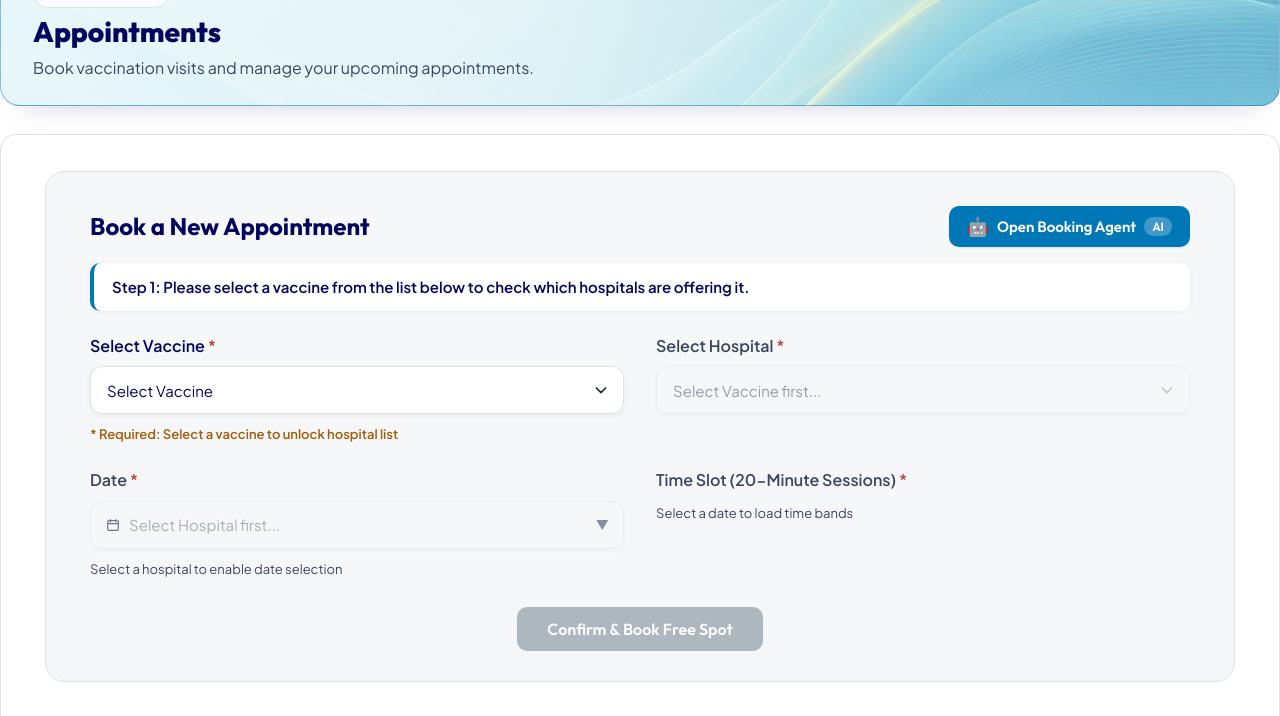
Test: Booking Management - Create Booking Form & Validation › displays loading state on submit button during appointment creation
Select "COVID-19 mRNA Booster (Moderna) (Routine)" in the dropdown with id "select-vaccine" at (357, 390), box [91, 367, 623, 413]
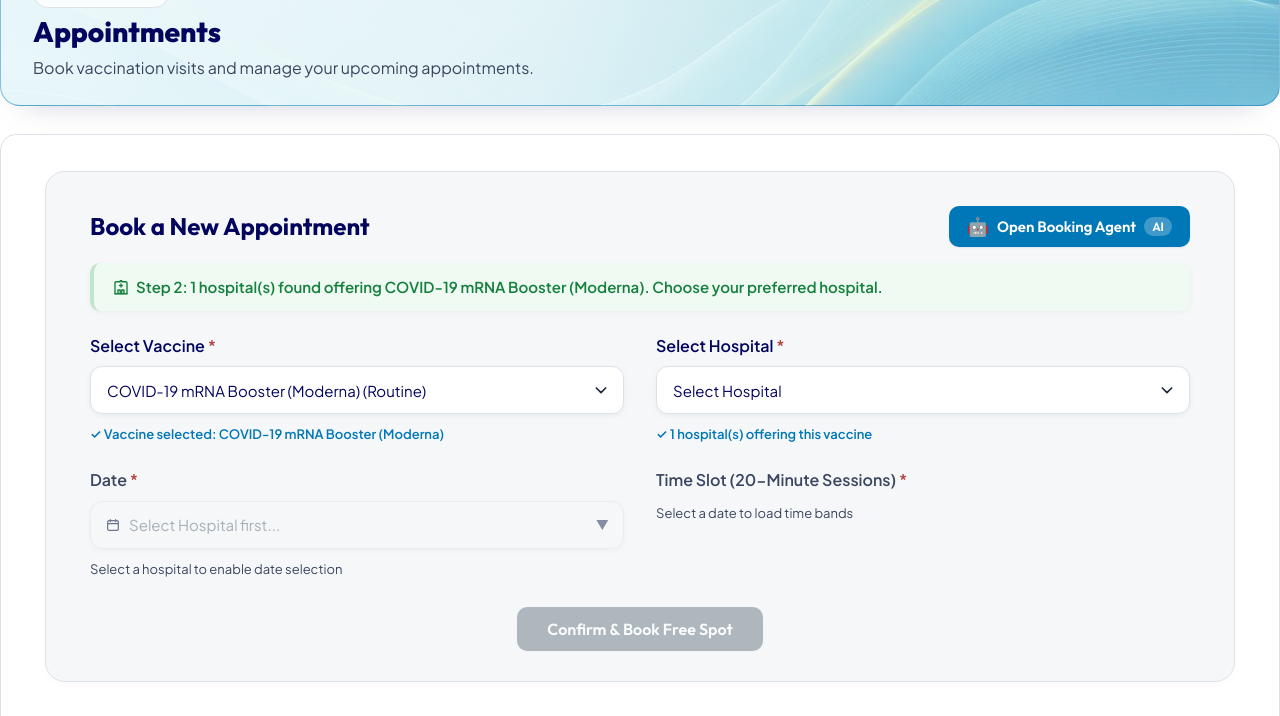
Select "National Hospital Colombo - Colombo 07" in the dropdown with id "select-hospital" at (923, 390), box [657, 367, 1189, 413]
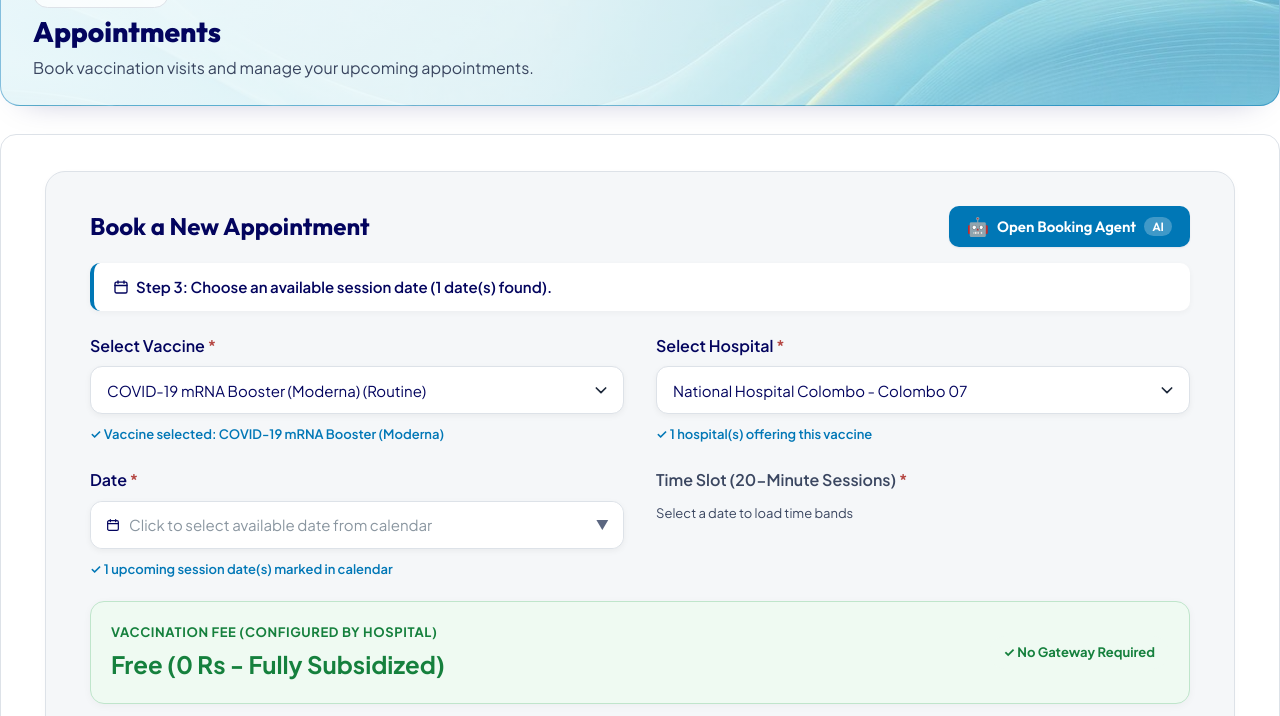
Click the text "Click to select available date from calendar".
click(281, 524)  # box [129, 515, 432, 534]
(page scrolled)
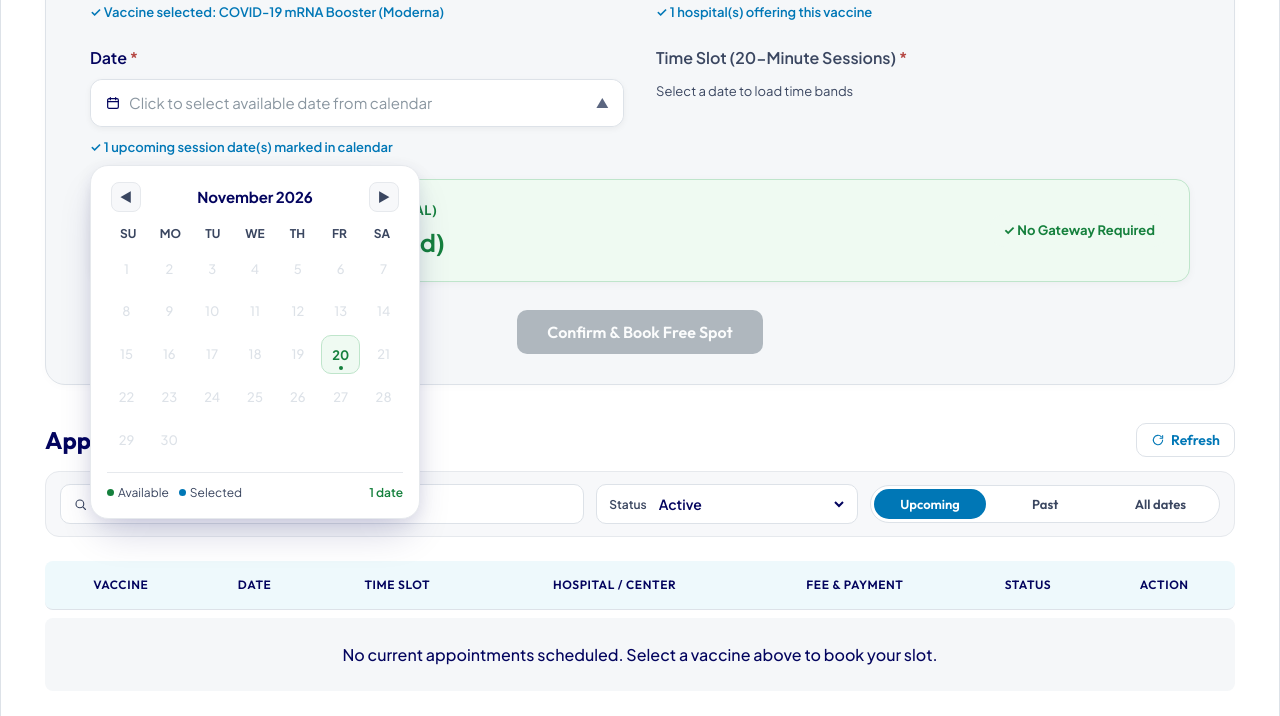
Click the button titled "2026-11-20".
click(341, 355)  # box [321, 335, 360, 374]
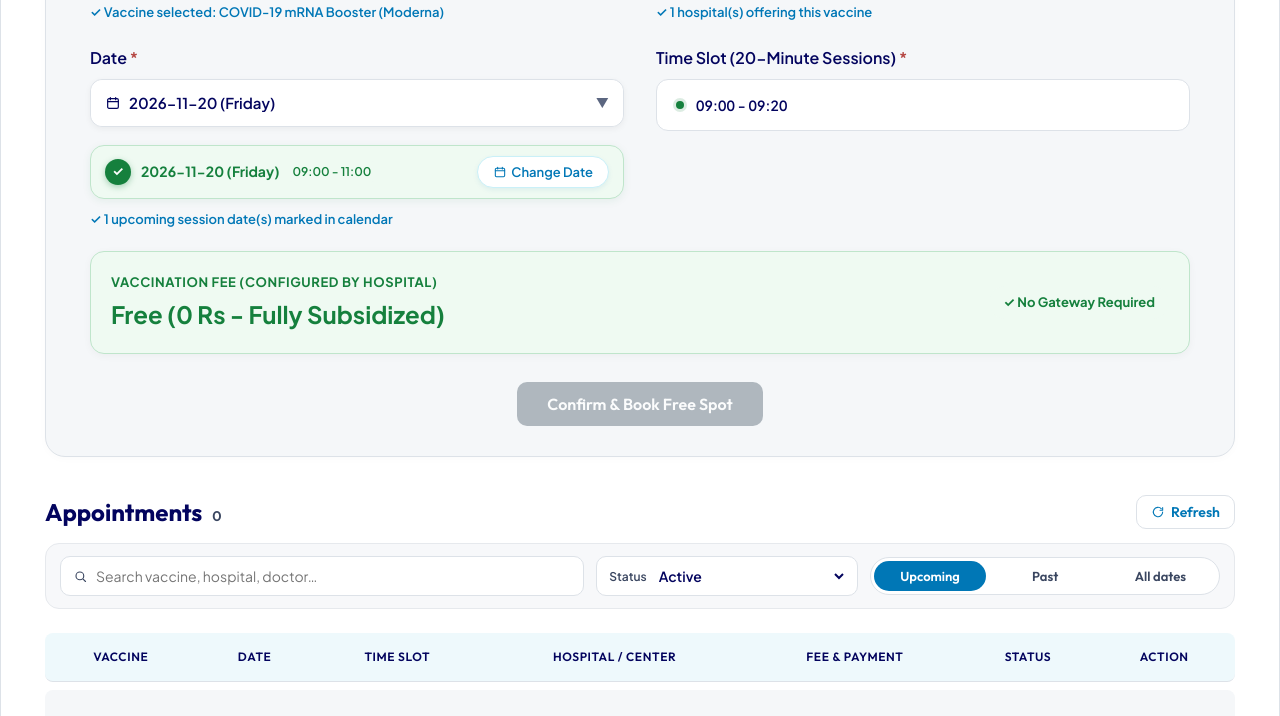
Click the option "09:00 - 09:20".
click(742, 104)  # box [663, 86, 1183, 124]
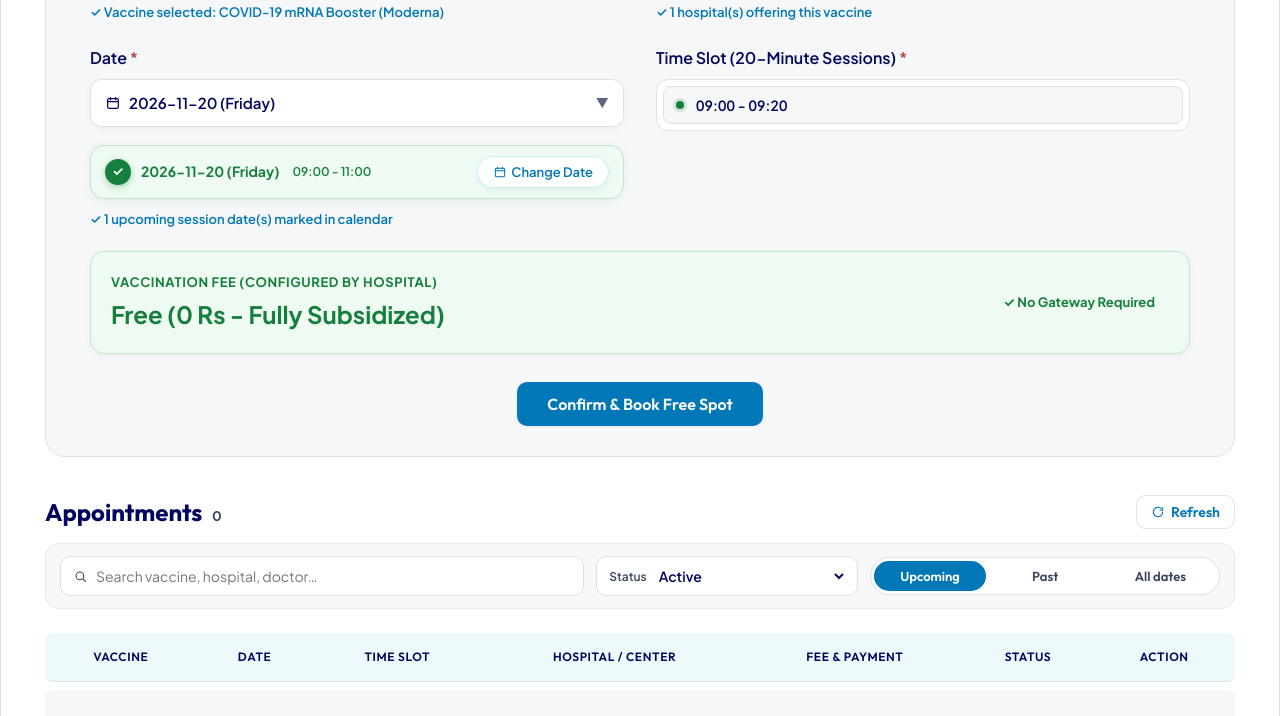
Now the button with class "btn-book-appointment" is enabled
Click the button with class "btn-book-appointment".
click(640, 404)  # box [517, 382, 763, 426]
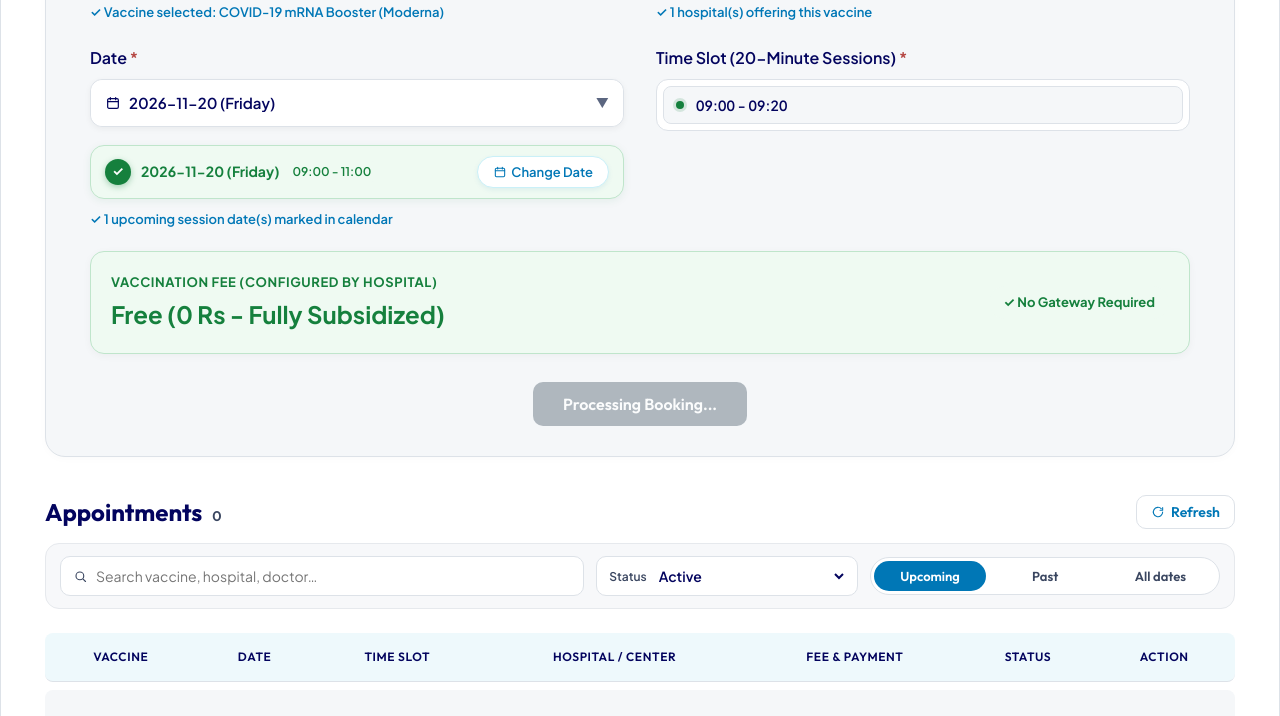
Now the button with class "btn-book-appointment" reads "Processing Booking...", box [533, 382, 747, 426]
Now the button with class "btn-book-appointment" is disabled, box [533, 382, 747, 426]
